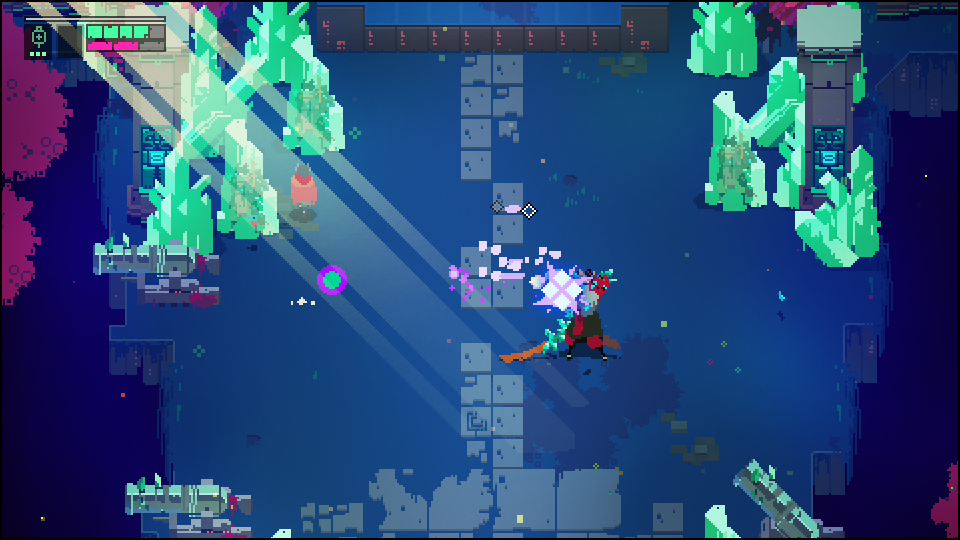hanged_man: (542, 269, 613, 361)
hanged_shot: (317, 267, 345, 298)
player: (290, 158, 323, 218)
